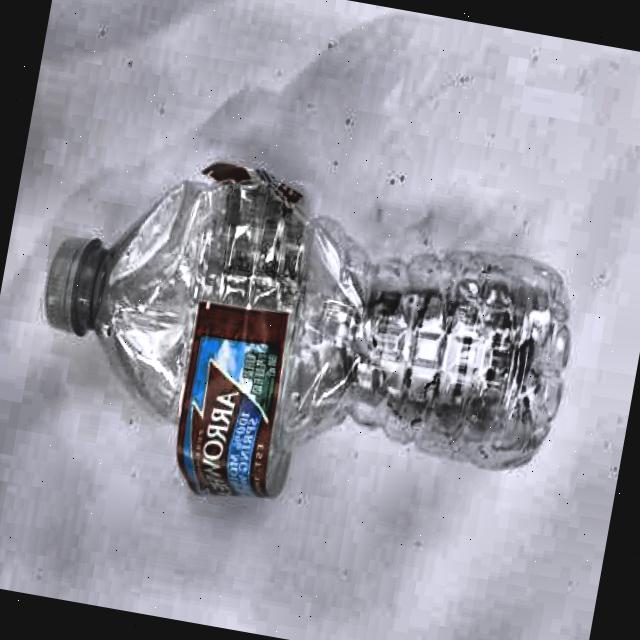plastic: (21, 136, 588, 496)
